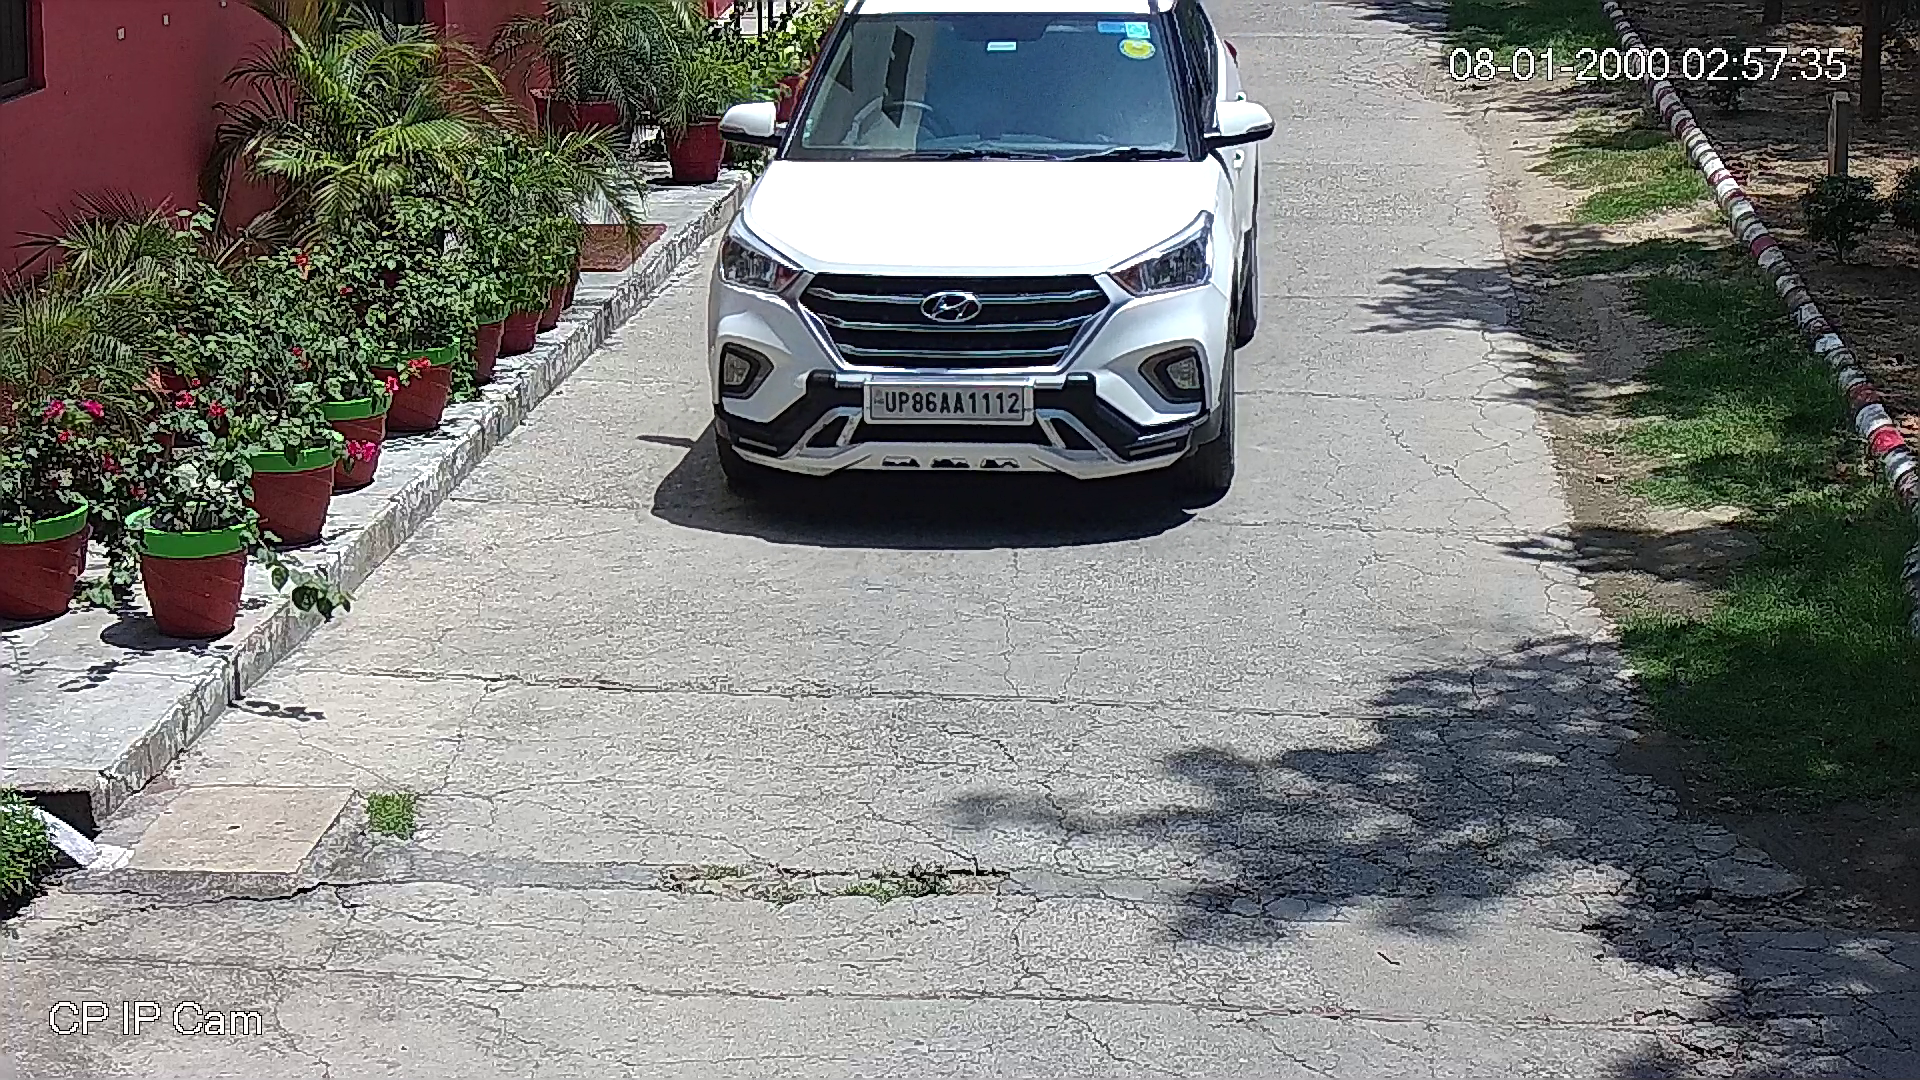plate: (859, 379, 1038, 424)
